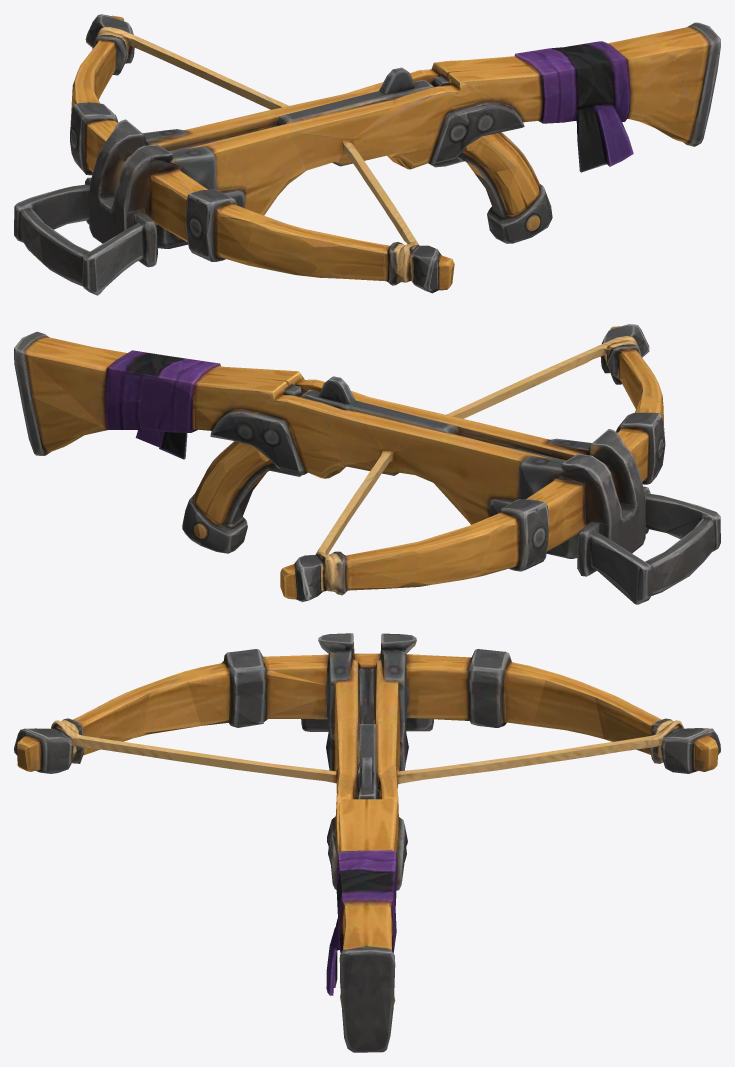
File: crossbow.glb
3 renders of one model, top to bottom at view 1: azimuth 30°, elevation 25°; view 2: azimuth 150°, elevation 25°; view 3: azimuth 270°, elevation 25°, orthographic. The views are drawn at different scales.
Visible parts, largest first — view 1: output_unwrapped; view 2: output_unwrapped; view 3: output_unwrapped.
Boxes of the visible parts, x1,y1,x2,y2 form: output_unwrapped: [14, 14, 720, 295]; output_unwrapped: [14, 324, 720, 604]; output_unwrapped: [14, 633, 720, 1052].
Bounding box in the file's own units: 1.9 × 0.5343 × 1.69.
1 material, 1 textured.
